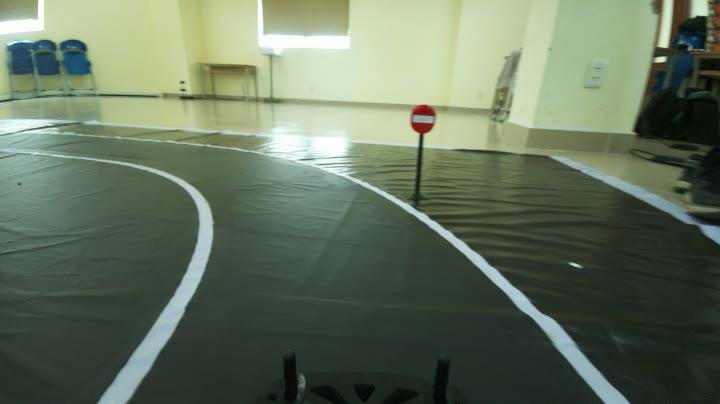no_entry: (405, 102, 443, 142)
